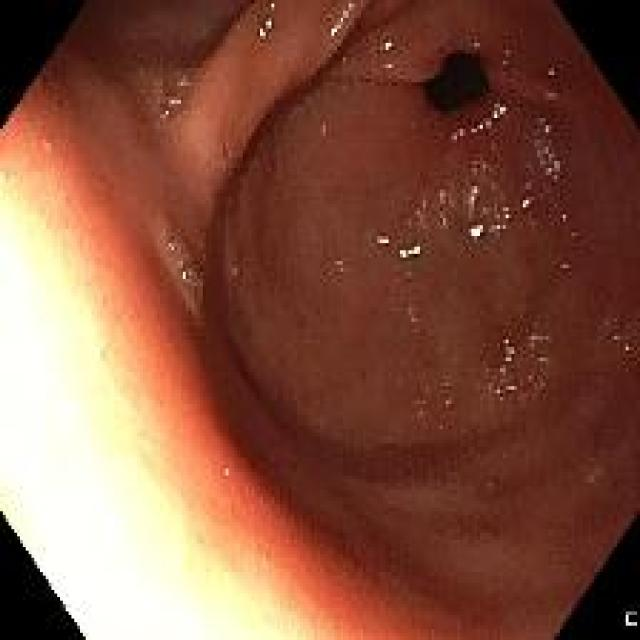bubbles: (150, 68, 195, 121), (250, 2, 288, 43), (467, 150, 500, 191), (488, 204, 511, 244), (608, 324, 633, 356), (527, 328, 553, 354), (498, 42, 513, 74), (462, 183, 478, 213), (330, 253, 346, 278), (218, 141, 233, 166), (179, 265, 195, 286), (164, 235, 179, 255), (471, 36, 484, 56), (436, 210, 449, 229), (227, 263, 241, 280), (221, 462, 232, 483), (435, 188, 450, 202), (318, 125, 330, 140)
contrast: (47, 3, 231, 83), (421, 46, 488, 111)
saturation: (0, 141, 144, 639), (144, 403, 320, 639)
specularity: (533, 114, 563, 181), (496, 334, 519, 397), (329, 3, 356, 33), (449, 122, 492, 140), (395, 241, 423, 263), (463, 220, 487, 240), (487, 101, 509, 122), (256, 15, 273, 40), (371, 230, 390, 246), (518, 196, 537, 212), (381, 38, 395, 52), (547, 66, 558, 83), (382, 59, 395, 72)
